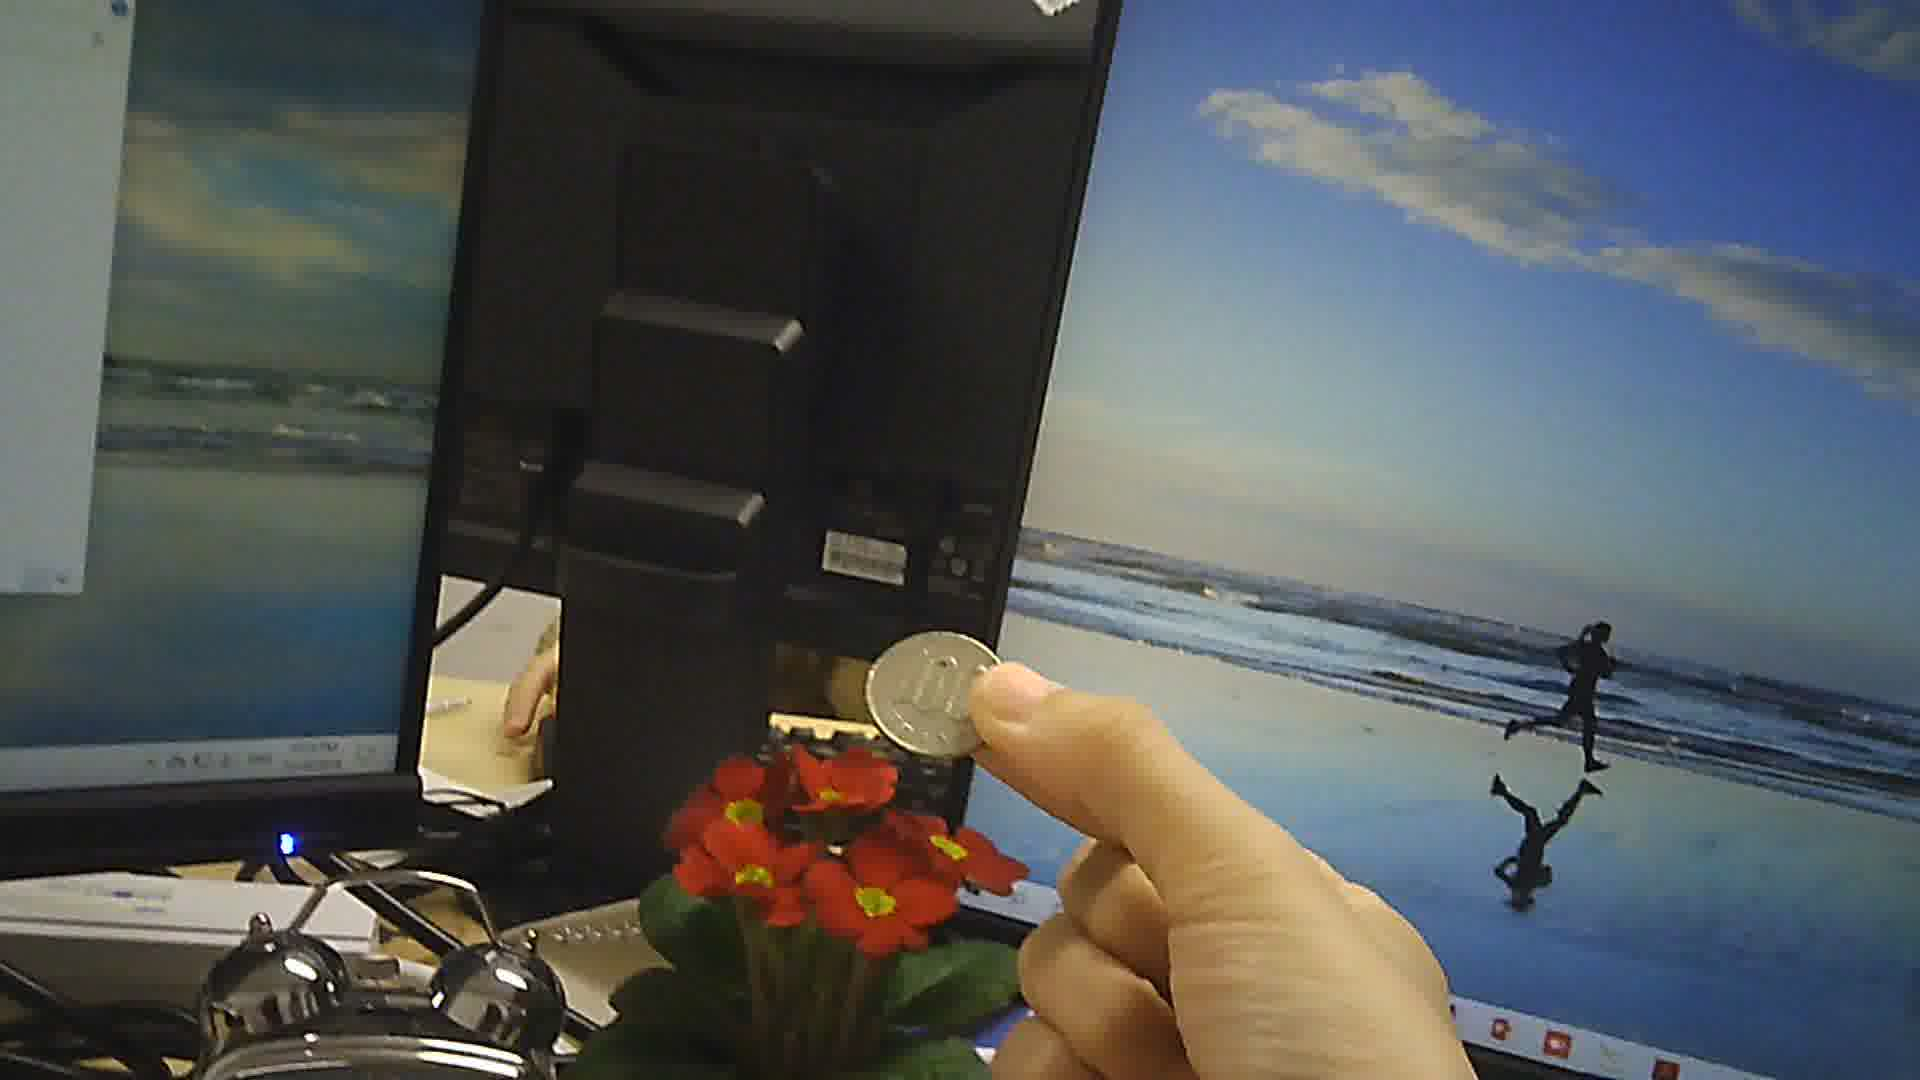100 Yen: (865, 612, 1018, 767)
